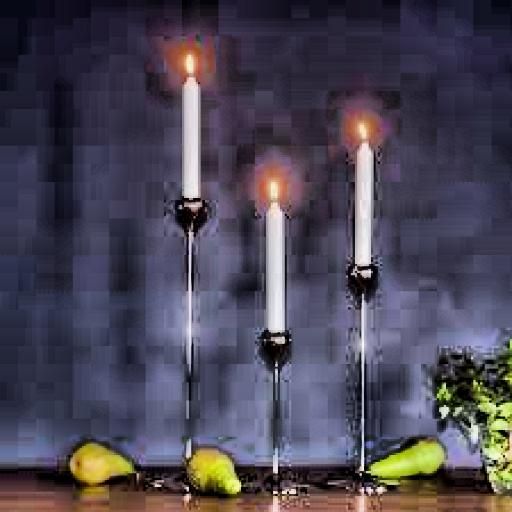fire: (341, 109, 378, 146), (257, 168, 289, 202), (175, 41, 200, 77)
